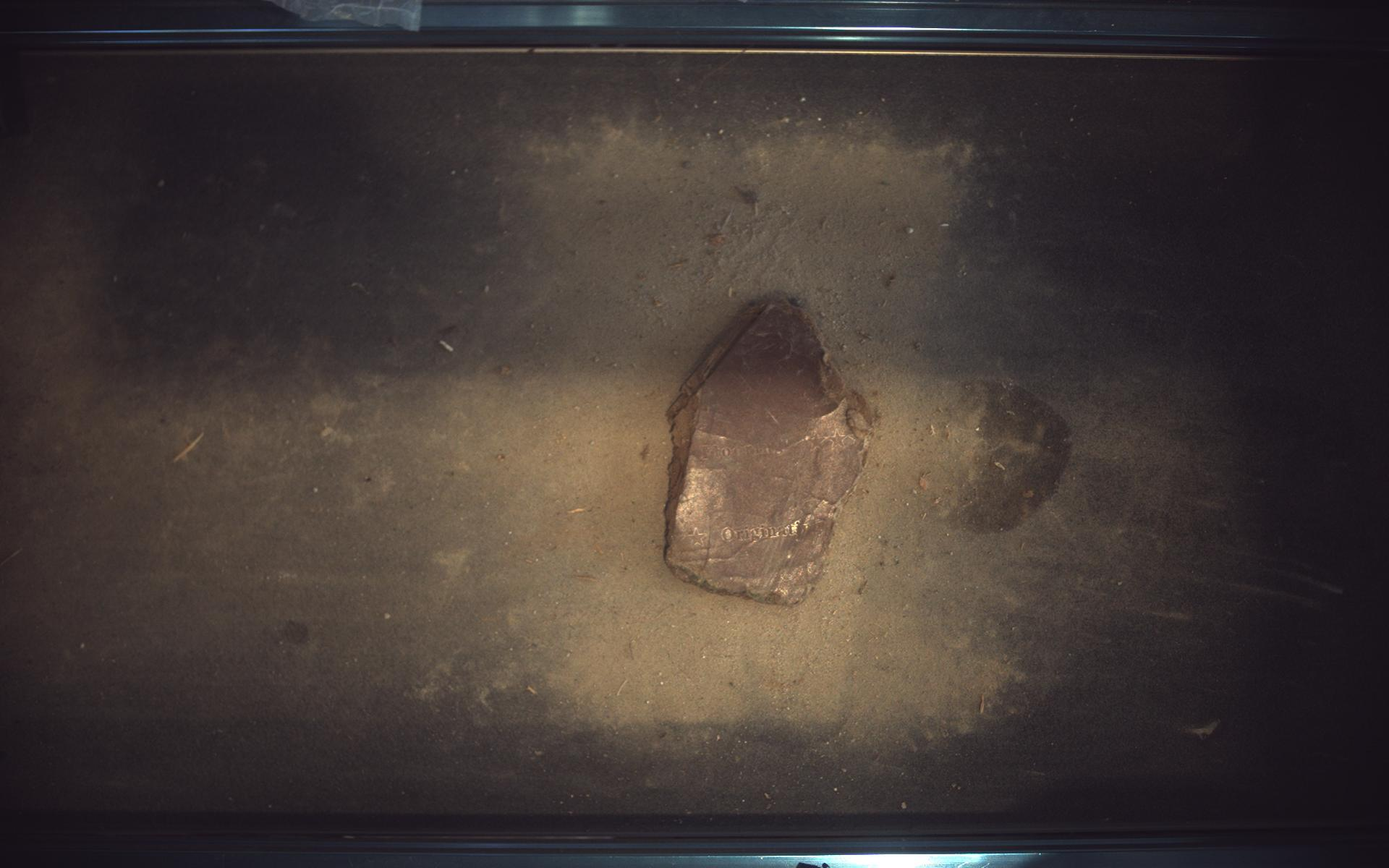wood: (666, 297, 875, 605)
